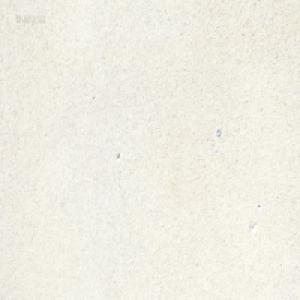Washer: (215, 127, 220, 137)
